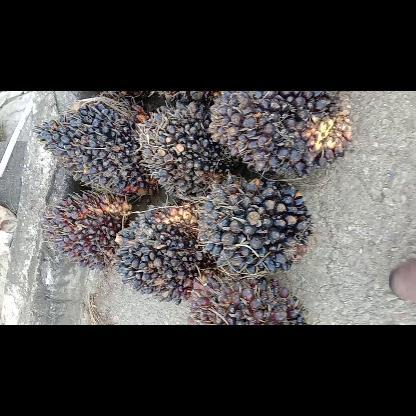TBS mentah: (28, 100, 162, 200), (207, 90, 358, 178), (192, 173, 314, 278), (133, 102, 245, 202), (112, 204, 218, 307), (38, 191, 136, 270), (186, 268, 312, 324)
